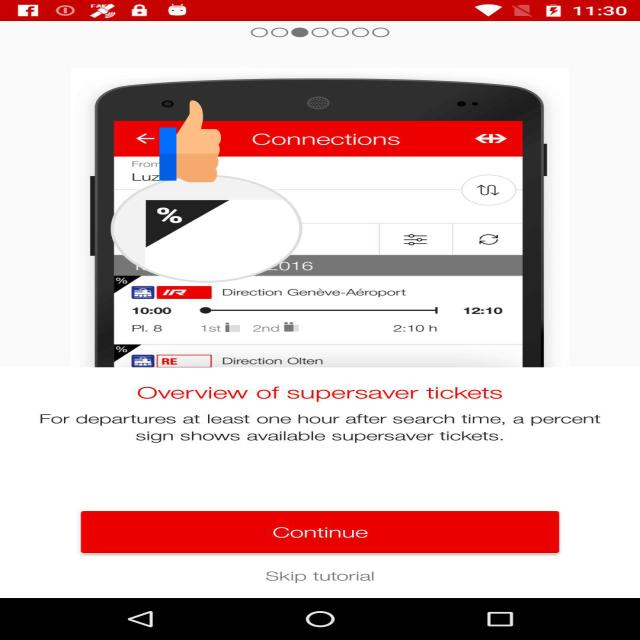privacy zuckering: (159, 99, 221, 184)
